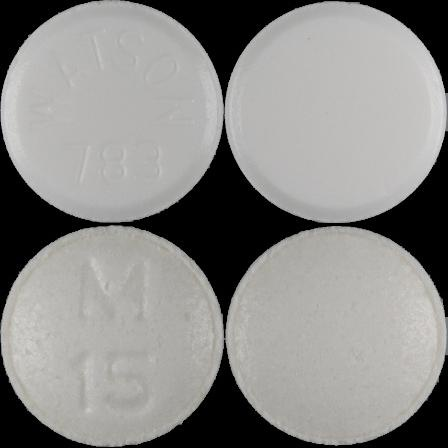12634-530: (0, 0, 224, 224)
